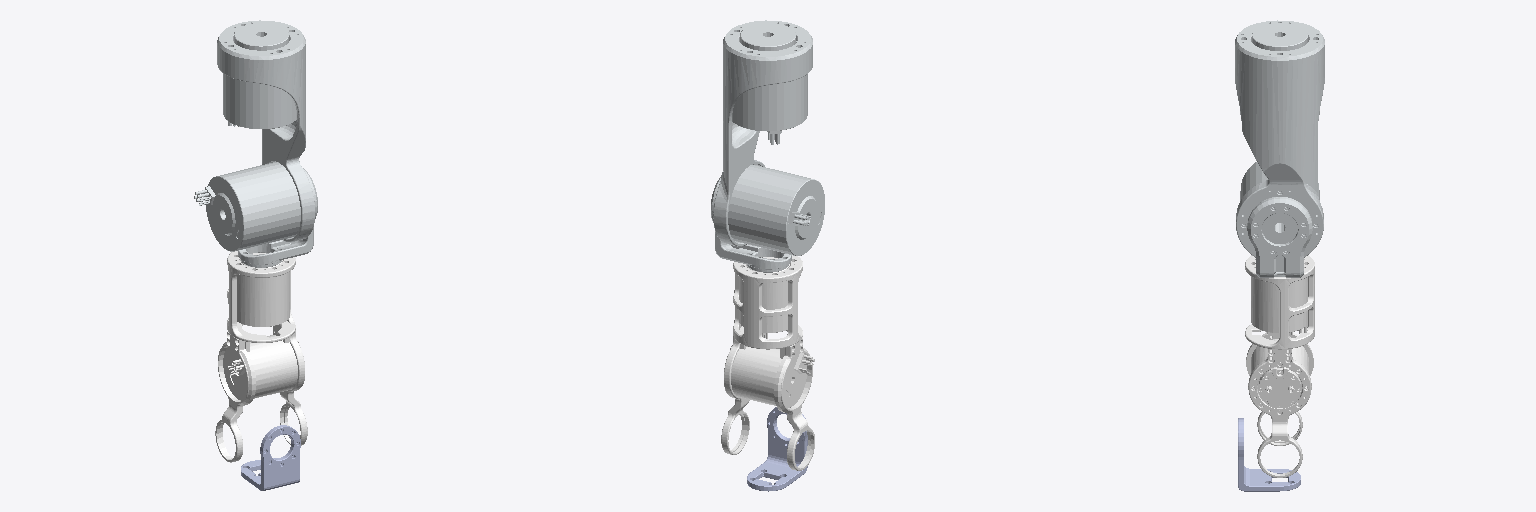
robot.urdf — astral_arm:
<?xml version="1.0" encoding="utf-8"?>
<!-- ============================================================================
  Single-arm URDF — "Astral Arm" extracted from RobotMain_URDF (left arm).

  Kinematic chain:
    body_link → shoulder_mount → base_link → joint1 → link1 → joint2 → link2
                         (fixed)   (empty)                           ↓
              link7 ← joint7 ← link6 ← joint6 ← link5 ← joint5 ← link4 ← joint4
                                                                       ↑
                                                             link3 ← joint3

  body_link  : torso geometry + mass (shared when assembled as dual-arm)
  base_link  : empty coordinate frame at shoulder joint center
  joint1~7   : 7-DOF arm: shoulder(3) + elbow(1) + wrist(3)

  For dual-arm assembly, body_link appears once; left_/right_ prefixes are
  added to base_link and all arm links/joints, mounted via shoulder_mount.

  Mesh source: SolidWorks → RobotMain_URDF, re-meshed for standalone package.
  ============================================================================ -->
<robot name="astral_arm">

  <!-- ======================================================================= -->
  <!--  BODY LINK — robot torso                                               -->
  <!--  Has full mesh for standalone viewing of the single arm.               -->
  <!--  In the dual-arm combined URDF, body_link is defined separately so     -->
  <!--  the torso renders only once.                                          -->
  <!-- ======================================================================= -->
  <link name="body_link">
    <inertial>
      <origin xyz="-0.000397796461260431 -0.00152495035220991 0.311174521880867" rpy="0 0 0"/>
      <mass value="3.83585130314113"/>
      <inertia ixx="0.0177204149690876" ixy="-9.93687937361393E-07" ixz="-5.47542776773803E-05" iyy="0.0184032317304656" iyz="-0.000201716977992903" izz="0.00624143314456702"/>
    </inertial>
    <visual>
      <origin xyz="0 0 0" rpy="0 0 0"/>
      <geometry>
        <mesh filename="package://astral_arm_description/meshes/base_link.STL"/>
      </geometry>
      <material name="">
        <color rgba="0.792156862745098 0.819607843137255 0.933333333333333 1"/>
      </material>
    </visual>
    <collision>
      <origin xyz="0 0 0" rpy="0 0 0"/>
      <geometry>
        <mesh filename="package://astral_arm_description/meshes/base_link.STL"/>
      </geometry>
    </collision>
  </link>

  <!-- ======================================================================= -->
  <!--  SHOULDER MOUNT — fixed offset from torso center to shoulder joint      -->
  <!--  In the combined dual-arm file, left/right mounts use opposite Y.       -->
  <!-- ======================================================================= -->
  <joint name="shoulder_mount" type="fixed">
    <origin xyz="0.09495 0 0.412" rpy="0 0 0"/>
    <parent link="body_link"/>
    <child link="base_link"/>
  </joint>

  <!-- ======================================================================= -->
  <!--  BASE LINK — empty frame at shoulder joint center                       -->
  <!--  This is the root of the arm kinematic chain. In dual-arm assembly,     -->
  <!--  two copies (left_base_link / right_base_link) mount to one body_link. -->
  <!-- ======================================================================= -->
  <link name="base_link"/>

  <!-- ======================================================================= -->
  <!--  JOINT 1 — shoulder rotation  (was Joint_la_1)                         -->
  <!--  Base is already at shoulder joint, so origin is identity.              -->
  <!-- ======================================================================= -->
  <link name="link1">
    <inertial>
      <origin xyz="0.00413700977741738 3.13242155845495E-05 -0.102952710945695" rpy="0 0 0"/>
      <mass value="0.425143933299929"/>
      <inertia ixx="0.000400795538974745" ixy="-8.79834183404054E-07" ixz="5.55331453556677E-05" iyy="0.000446033724929825" iyz="5.25094998188193E-07" izz="0.00037515957060443"/>
    </inertial>
    <visual>
      <origin xyz="0 0 0" rpy="0 0 0"/>
      <geometry>
        <mesh filename="package://astral_arm_description/meshes/link1.STL"/>
      </geometry>
      <material name="">
        <color rgba="0.898039215686275 0.917647058823529 0.929411764705882 1"/>
      </material>
    </visual>
    <collision>
      <origin xyz="0 0 0" rpy="0 0 0"/>
      <geometry>
        <mesh filename="package://astral_arm_description/meshes/link1.STL"/>
      </geometry>
    </collision>
  </link>
  <joint name="joint1" type="revolute">
    <origin xyz="0 0 0" rpy="-1.5708 0 1.5708"/>
    <parent link="base_link"/>
    <child link="link1"/>
    <axis xyz="0 0 1"/>
    <limit lower="-2.0" upper="2.0" effort="100" velocity="10"/>
  </joint>

  <!-- ======================================================================= -->
  <!--  JOINT 2 — shoulder pitch  (was Joint_la_2)                            -->
  <!-- ======================================================================= -->
  <link name="link2">
    <inertial>
      <origin xyz="1.16366136365675E-07 -0.0515369360052761 -0.0233393507591638" rpy="0 0 0"/>
      <mass value="0.170397147939771"/>
      <inertia ixx="0.000176632928221221" ixy="9.88510099541285E-11" ixz="-7.16368604056304E-11" iyy="0.000124223561257769" iyz="5.05360861009142E-05" izz="0.000154841820923681"/>
    </inertial>
    <visual>
      <origin xyz="0 0 0" rpy="0 0 0"/>
      <geometry>
        <mesh filename="package://astral_arm_description/meshes/link2.STL"/>
      </geometry>
      <material name="">
        <color rgba="0.898039215686275 0.917647058823529 0.929411764705882 1"/>
      </material>
    </visual>
    <collision>
      <origin xyz="0 0 0" rpy="0 0 0"/>
      <geometry>
        <mesh filename="package://astral_arm_description/meshes/link2.STL"/>
      </geometry>
    </collision>
  </link>
  <joint name="joint2" type="revolute">
    <origin xyz="0.00245 0 -0.11655" rpy="3.1416 1.5708 0"/>
    <parent link="link1"/>
    <child link="link2"/>
    <axis xyz="0 0 1"/>
    <limit lower="-0.3" upper="2.0" effort="100" velocity="10"/>
  </joint>

  <!-- ======================================================================= -->
  <!--  JOINT 3 — upper arm rotation  (was Joint_la_3)                        -->
  <!-- ======================================================================= -->
  <link name="link3">
    <inertial>
      <origin xyz="0.0052733306336345 0.000541043280667566 -0.0560142283878082" rpy="0 0 0"/>
      <mass value="0.828197516273737"/>
      <inertia ixx="0.00146512401102827" ixy="-4.70601849889154E-06" ixz="0.000171052404649863" iyy="0.00148986909371496" iyz="1.9876103888156E-05" izz="0.000641319058946128"/>
    </inertial>
    <visual>
      <origin xyz="0 0 0" rpy="0 0 0"/>
      <geometry>
        <mesh filename="package://astral_arm_description/meshes/link3.STL"/>
      </geometry>
      <material name="">
        <color rgba="0.898039215686275 0.917647058823529 0.929411764705882 1"/>
      </material>
    </visual>
    <collision>
      <origin xyz="0 0 0" rpy="0 0 0"/>
      <geometry>
        <mesh filename="package://astral_arm_description/meshes/link3.STL"/>
      </geometry>
    </collision>
  </link>
  <joint name="joint3" type="revolute">
    <origin xyz="0 -0.11605 0.00245" rpy="-1.5708 0 0"/>
    <parent link="link2"/>
    <child link="link3"/>
    <axis xyz="0 0 1"/>
    <limit lower="-2.2689" upper="2.2689" effort="100" velocity="10"/>
  </joint>

  <!-- ======================================================================= -->
  <!--  JOINT 4 — elbow  (was Joint_la_4)                                      -->
  <!-- ======================================================================= -->
  <link name="link4">
    <inertial>
      <origin xyz="2.25766184129186E-07 -0.0305678127128807 0.0269754610593833" rpy="0 0 0"/>
      <mass value="0.0732871793694264"/>
      <inertia ixx="6.11533842326613E-05" ixy="1.21221675532134E-10" ixz="2.75704116734621E-09" iyy="3.9792576295254E-05" iyz="-1.67758586650268E-05" izz="5.33009737500945E-05"/>
    </inertial>
    <visual>
      <origin xyz="0 0 0" rpy="0 0 0"/>
      <geometry>
        <mesh filename="package://astral_arm_description/meshes/link4.STL"/>
      </geometry>
      <material name="">
        <color rgba="0.898039215686275 0.917647058823529 0.929411764705882 1"/>
      </material>
    </visual>
    <collision>
      <origin xyz="0 0 0" rpy="0 0 0"/>
      <geometry>
        <mesh filename="package://astral_arm_description/meshes/link4.STL"/>
      </geometry>
    </collision>
  </link>
  <joint name="joint4" type="revolute">
    <origin xyz="-5E-05 0 -0.12995" rpy="1.5708 0 1.5708"/>
    <parent link="link3"/>
    <child link="link4"/>
    <axis xyz="0 0 1"/>
    <limit lower="-2.26" upper="0.0" effort="100" velocity="10"/>
  </joint>

  <!-- ======================================================================= -->
  <!--  JOINT 5 — forearm rotation  (was Joint_la_5)                          -->
  <!-- ======================================================================= -->
  <link name="link5">
    <inertial>
      <origin xyz="0.000917722983989122 -0.00172455542728443 0.0413047183843976" rpy="0 0 0"/>
      <mass value="0.357479627979921"/>
      <inertia ixx="0.00023855008866071" ixy="3.26564382789649E-07" ixz="-2.26698562006965E-07" iyy="0.000245543547575495" iyz="2.00410252204386E-06" izz="0.00014874826512795"/>
    </inertial>
    <visual>
      <origin xyz="0 0 0" rpy="0 0 0"/>
      <geometry>
        <mesh filename="package://astral_arm_description/meshes/link5.STL"/>
      </geometry>
      <material name="">
        <color rgba="1 1 1 1"/>
      </material>
    </visual>
    <collision>
      <origin xyz="0 0 0" rpy="0 0 0"/>
      <geometry>
        <mesh filename="package://astral_arm_description/meshes/link5.STL"/>
      </geometry>
    </collision>
  </link>
  <joint name="joint5" type="revolute">
    <origin xyz="0 -0.0819 5E-05" rpy="1.5708 -1.5708 0"/>
    <parent link="link4"/>
    <child link="link5"/>
    <axis xyz="0 0 1"/>
    <limit lower="-1.7802" upper="1.7802" effort="100" velocity="10"/>
  </joint>

  <!-- ======================================================================= -->
  <!--  JOINT 6 — wrist pitch  (was Joint_la_6)                               -->
  <!-- ======================================================================= -->
  <link name="link6">
    <inertial>
      <origin xyz="-0.00209616210931616 -7.60432338380648E-05 -0.0345869016249898" rpy="0 0 0"/>
      <mass value="0.223326104264372"/>
      <inertia ixx="0.0001191916758025" ixy="5.11035010670013E-07" ixz="5.44350071946939E-09" iyy="0.000125075221210904" iyz="-1.50912446701465E-09" izz="0.000116882152036891"/>
    </inertial>
    <visual>
      <origin xyz="0 0 0" rpy="0 0 0"/>
      <geometry>
        <mesh filename="package://astral_arm_description/meshes/link6.STL"/>
      </geometry>
      <material name="">
        <color rgba="0.866666666666667 0.866666666666667 0.890196078431372 1"/>
      </material>
    </visual>
    <collision>
      <origin xyz="0 0 0" rpy="0 0 0"/>
      <geometry>
        <mesh filename="package://astral_arm_description/meshes/link6.STL"/>
      </geometry>
    </collision>
  </link>
  <joint name="joint6" type="revolute">
    <origin xyz="-0.0346 0 0.1446" rpy="1.5708 0 -1.5708"/>
    <parent link="link5"/>
    <child link="link6"/>
    <axis xyz="0 0 1"/>
    <limit lower="-0.8" upper="0.85" effort="100" velocity="10"/>
  </joint>

  <!-- ======================================================================= -->
  <!--  JOINT 7 — wrist rotation / end-effector mount  (was Joint_la_7)       -->
  <!-- ======================================================================= -->
  <link name="link7">
    <inertial>
      <origin xyz="-3.07727787696166E-10 -0.0259940225273303 0.0199872280031537" rpy="0 0 0"/>
      <mass value="0.015413107363488"/>
      <inertia ixx="8.04290603753782E-06" ixy="-2.14770052671349E-14" ixz="-1.47932442430447E-13" iyy="5.65123319283211E-06" iyz="-2.06676272068973E-06" izz="6.48331175250713E-06"/>
    </inertial>
    <visual>
      <origin xyz="0 0 0" rpy="0 0 0"/>
      <geometry>
        <mesh filename="package://astral_arm_description/meshes/link7.STL"/>
      </geometry>
      <material name="">
        <color rgba="0.792156862745098 0.819607843137255 0.933333333333333 1"/>
      </material>
    </visual>
    <collision>
      <origin xyz="0 0 0" rpy="0 0 0"/>
      <geometry>
        <mesh filename="package://astral_arm_description/meshes/link7.STL"/>
      </geometry>
    </collision>
  </link>
  <joint name="joint7" type="revolute">
    <origin xyz="-0.0036 0 -0.03455" rpy="3.1416 1.5708 0"/>
    <parent link="link6"/>
    <child link="link7"/>
    <axis xyz="0 0 1"/>
    <limit lower="-1.57" upper="1.57" effort="100" velocity="10"/>
  </joint>

</robot>

--- Facts derived from the render (not from the file) ---
3 views of the same robot in one strip: view 1: azimuth 30°, elevation 25°; view 2: azimuth 150°, elevation 25°; view 3: azimuth 270°, elevation 25° (orthographic).
Robot: astral_arm — 9 links, 8 joints (7 revolute, 1 fixed); root link body_link; default pose: every joint at zero.
Links seen in each view (by area): view 1: link3, link5, link7, link4; view 2: link3, link5, link7, link4; view 3: link3, link5, link4, link7.
Boxes of the visible links, x1,y1,x2,y2 form: link3: (194, 20, 314, 251); link5: (215, 251, 307, 462); link7: (241, 425, 300, 490); link4: (238, 168, 317, 267); link3: (713, 20, 824, 255); link5: (721, 255, 814, 470); link7: (747, 407, 807, 491); link4: (711, 175, 791, 272); link3: (1235, 20, 1324, 257); link5: (1245, 255, 1314, 477); link4: (1247, 197, 1312, 277); link7: (1238, 418, 1300, 491).
Bounding box of the posed robot: 0.0976 × 0.08 × 0.4375 m (x, y, z).
4 mesh visuals loaded from 8 distinct referenced files (4 binary STL); not drawn: 4 (reference not matched to a file when rendering).
